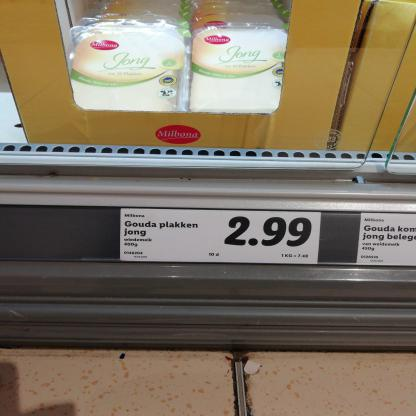prtg: (121, 209, 323, 265), (357, 213, 416, 266)
